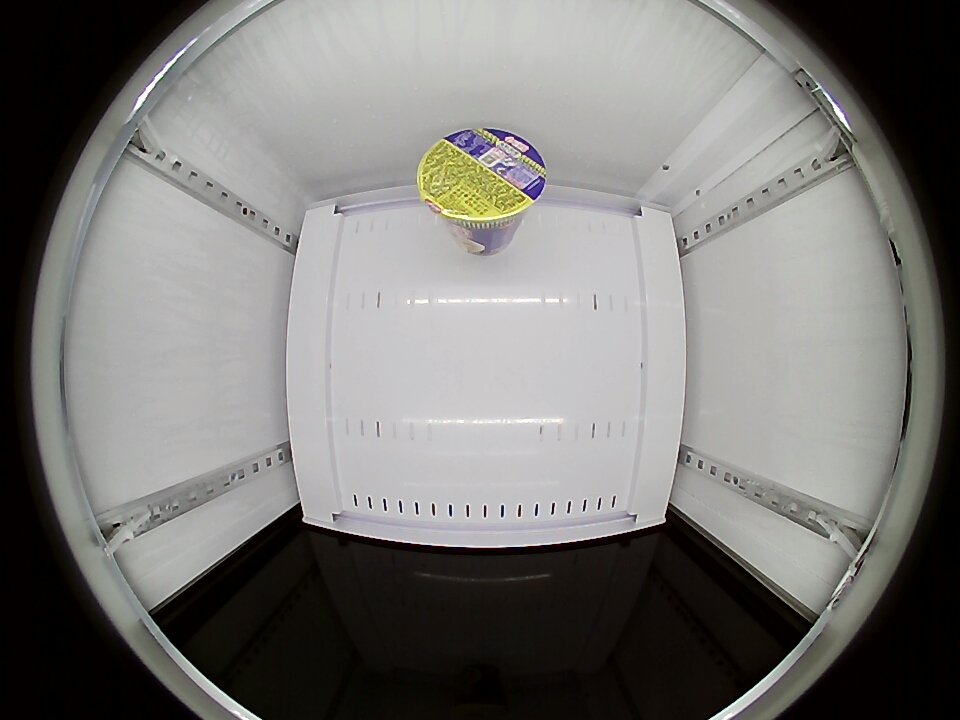heweidao: (417, 127, 547, 237)
